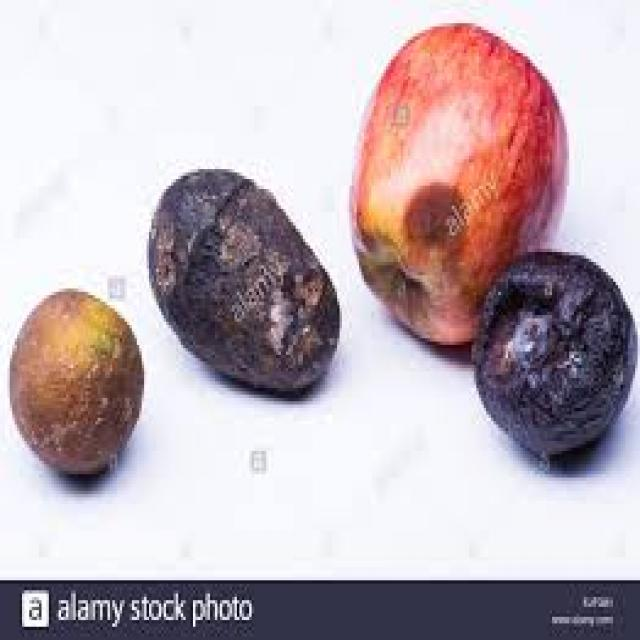organic waste: (350, 20, 564, 341), (142, 166, 337, 391), (472, 245, 635, 451), (8, 285, 140, 471)
